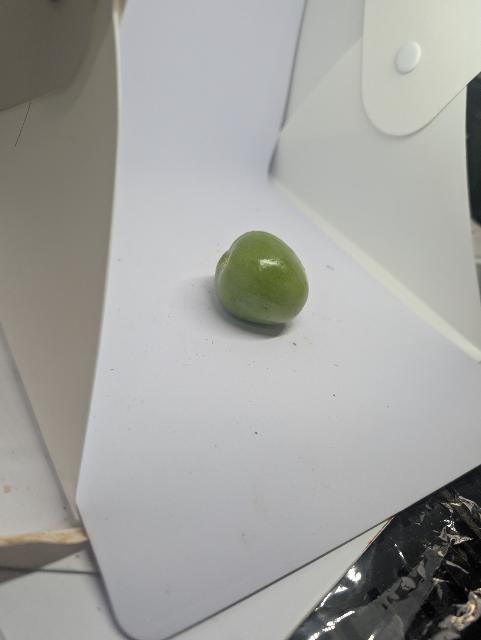green: (213, 229, 311, 328)
